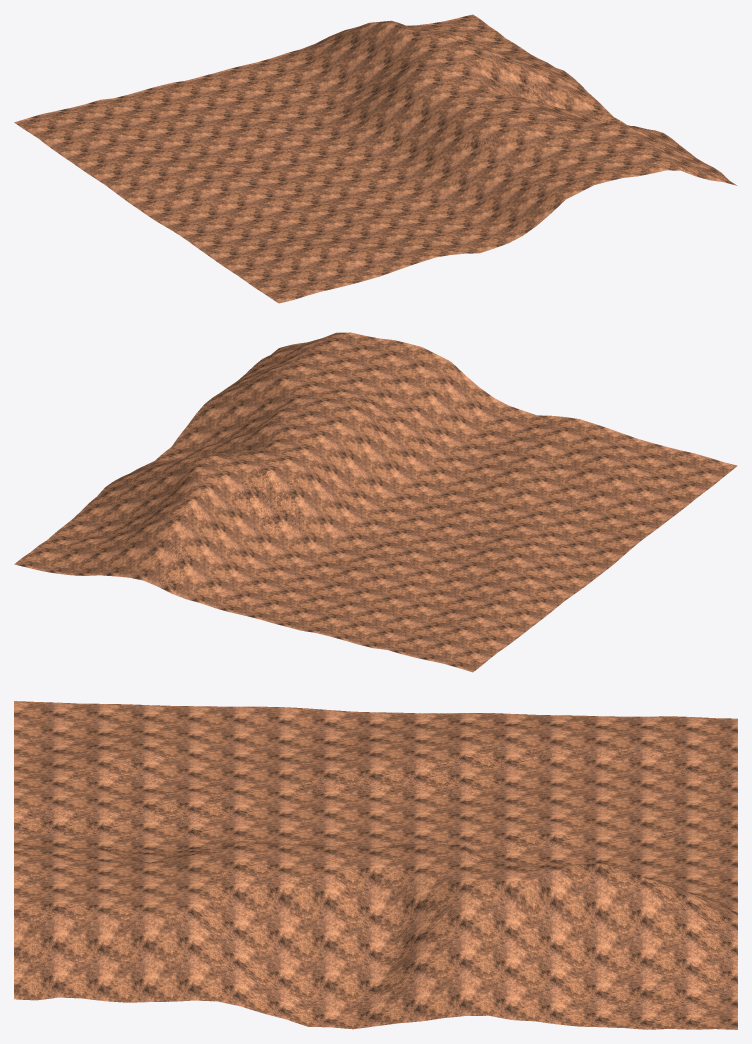
Rendered from terrain_07_04.dae.
3 views of the same model, one above another, from view 1: azimuth 30°, elevation 25°; view 2: azimuth 150°, elevation 25°; view 3: azimuth 270°, elevation 25° (orthographic). The views are drawn at different scales.
Parts seen in each view (by area): view 1: terrain_07_04-node; view 2: terrain_07_04-node; view 3: terrain_07_04-node.
Part boxes in pixels (x1,y1,x2,y2): terrain_07_04-node: (14,14,737,303); terrain_07_04-node: (14,332,737,672); terrain_07_04-node: (14,701,737,1029).
Bounding box in the file's own units: 128 × 128 × 16.11.
Materials: 1 (1 with a texture image).
